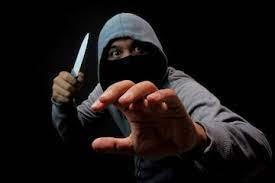Knife: (52, 13, 272, 183), (53, 71, 82, 101), (71, 31, 90, 75)
